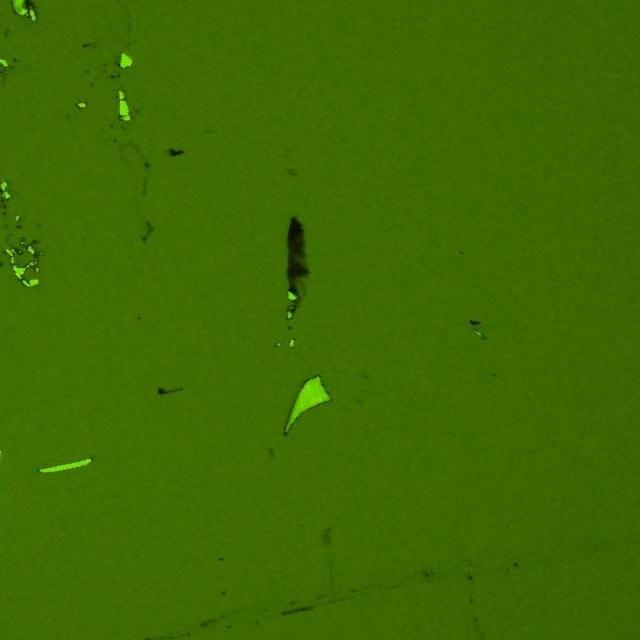monolayer-eWW4: (292, 274, 308, 295), (294, 254, 308, 270)
